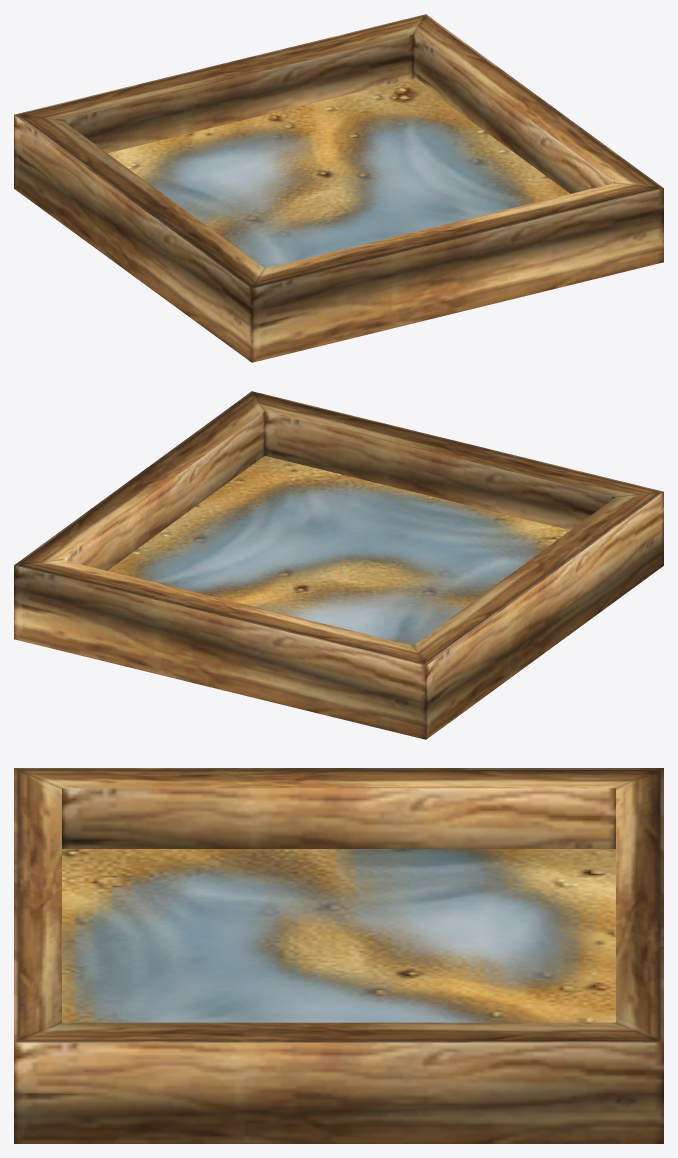
The model's file is miningsifter02.obj.
3 views of the same model, one above another, from view 1: azimuth 30°, elevation 25°; view 2: azimuth 150°, elevation 25°; view 3: azimuth 270°, elevation 25° (orthographic). The views are drawn at different scales.
Visible parts, largest first — view 1: MININGSIFTER020, MININGSIFTER021; view 2: MININGSIFTER020, MININGSIFTER021; view 3: MININGSIFTER020, MININGSIFTER021.
Part boxes in pixels (x1=…): MININGSIFTER020: x1=14, y1=14, x2=663, y2=362; MININGSIFTER021: x1=108, y1=79, x2=569, y2=268; MININGSIFTER020: x1=14, y1=391, x2=663, y2=739; MININGSIFTER021: x1=108, y1=456, x2=569, y2=645; MININGSIFTER020: x1=14, y1=768, x2=663, y2=1143; MININGSIFTER021: x1=62, y1=849, x2=615, y2=1022.
Bounding box in the file's own units: 1.51 × 0.2587 × 1.51.
Materials: 2 (2 with a texture image).
